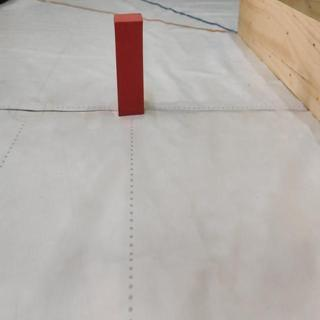redbox: (114, 13, 144, 116)
